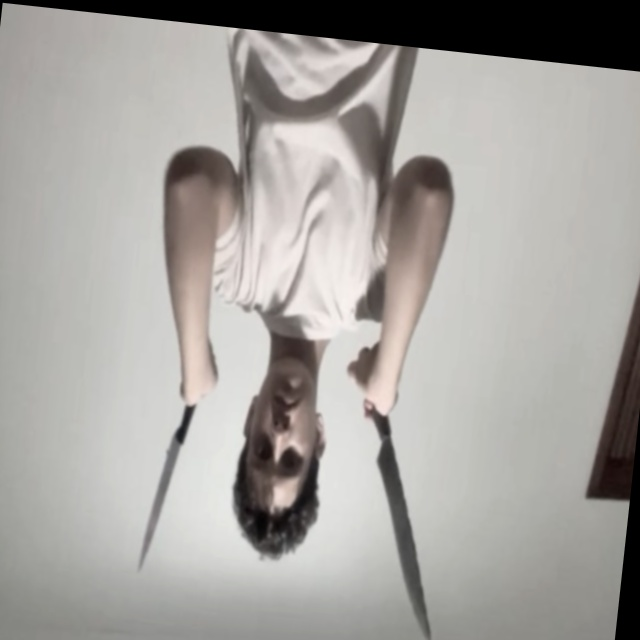Sharp-Object: (357, 455, 450, 640), (136, 436, 182, 576)
